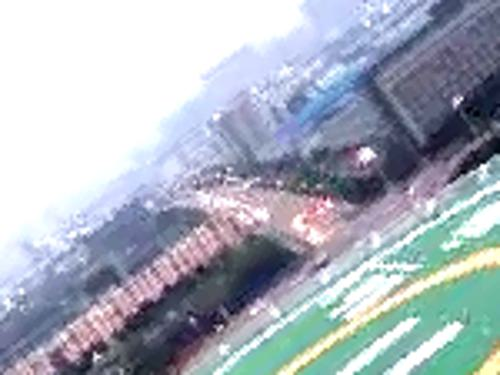Apron: (270, 242, 499, 375)
